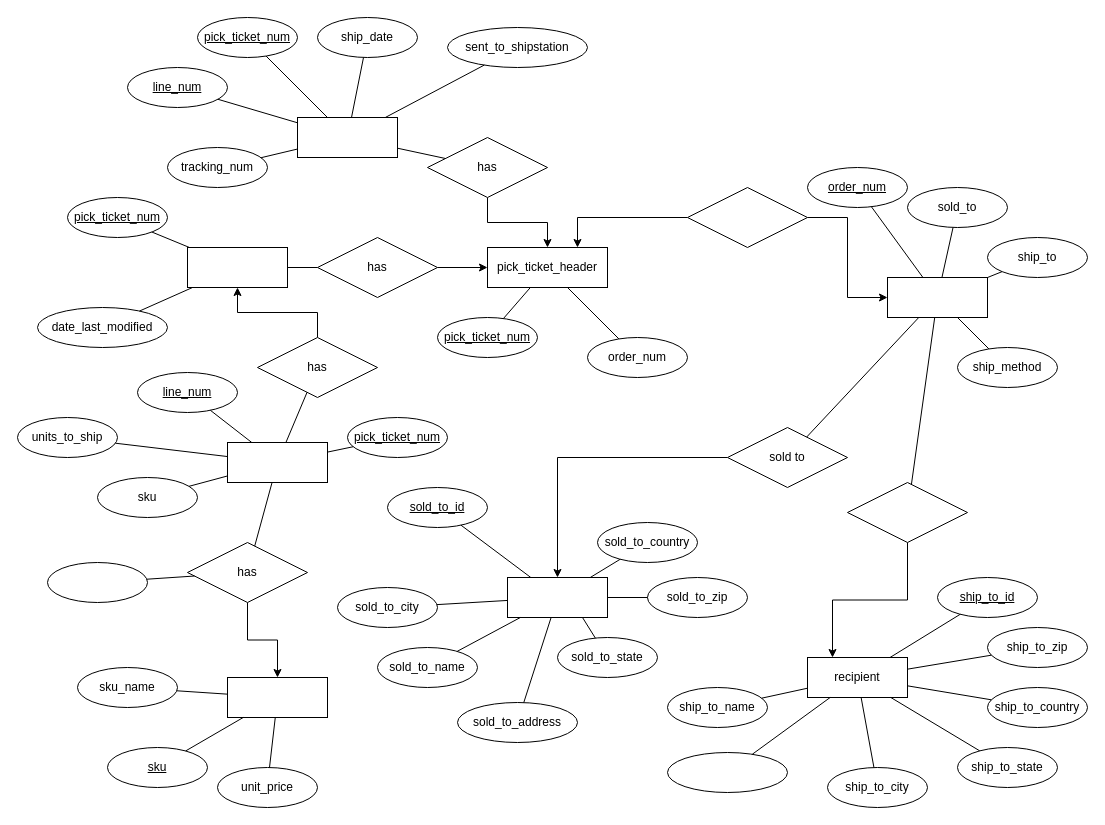
The diagram is 1105 pixels wide and 825 high, and some of its shapes have lost their labels. The shapes that lost their labels are listed below. From the top down, each one's centre as x and y in pixels, then its label:
At point (347, 137): "shipping_conf".
At point (747, 217): "has a".
At point (237, 267): "pick_ticket_detail".
At point (937, 297): "wsi_order".
At point (277, 462): "line_item".
At point (907, 512): "ship to".
At point (97, 582): "quantity".
At point (557, 597): "customer".
At point (277, 697): "product".
At point (727, 772): "ship_to_address".
